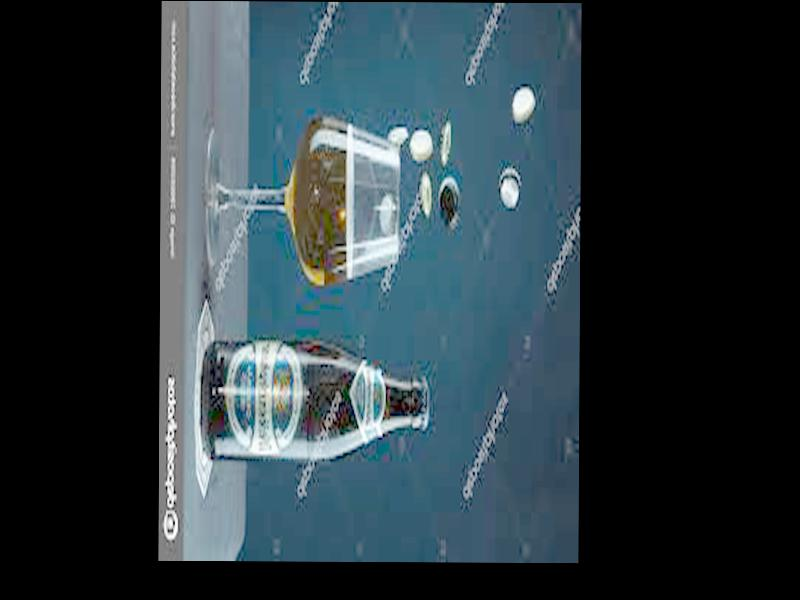Beer: (203, 343, 426, 458)
